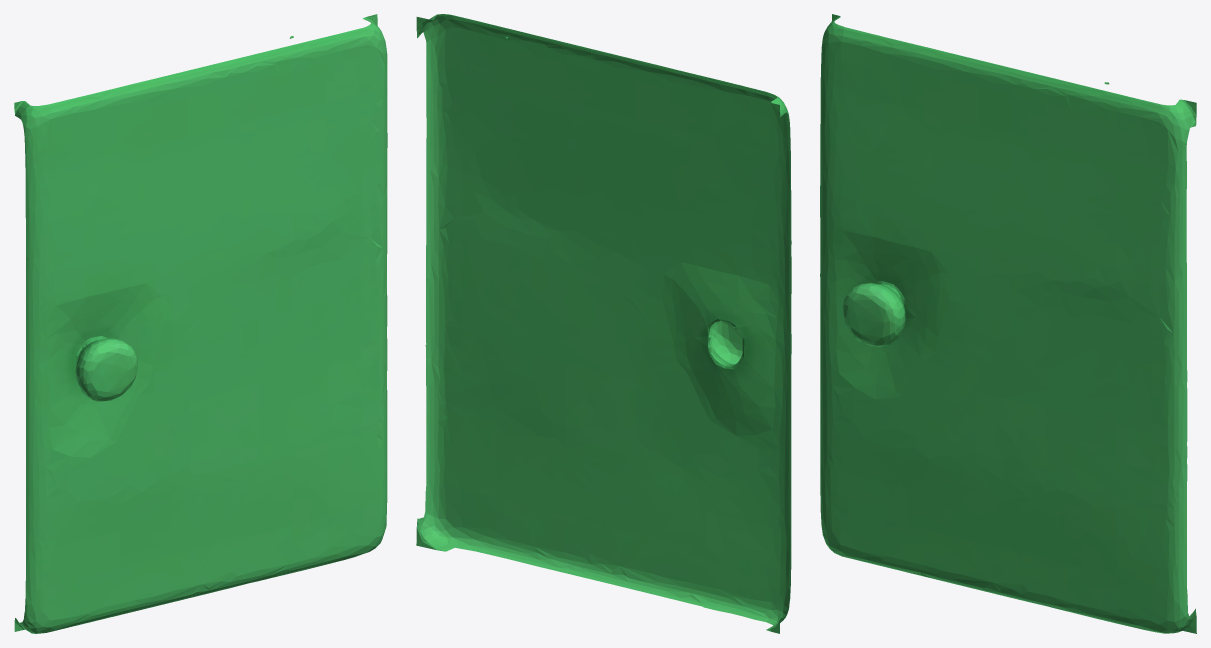
File: door_right.glb
3 views of the same model, side by side, from view 1: azimuth 30°, elevation 25°; view 2: azimuth 150°, elevation 25°; view 3: azimuth 330°, elevation 25° (orthographic).
Parts seen in each view (by area): view 1: source_surface_0; view 2: source_surface_0; view 3: source_surface_0.
Part boxes in pixels (bbox=[...]): source_surface_0: bbox=[14, 14, 387, 633]; source_surface_0: bbox=[416, 14, 791, 633]; source_surface_0: bbox=[820, 14, 1196, 633].
Size of the model in its own units: 0.1267 by 0.1764 by 0.0195.
1 material, 1 textured.
